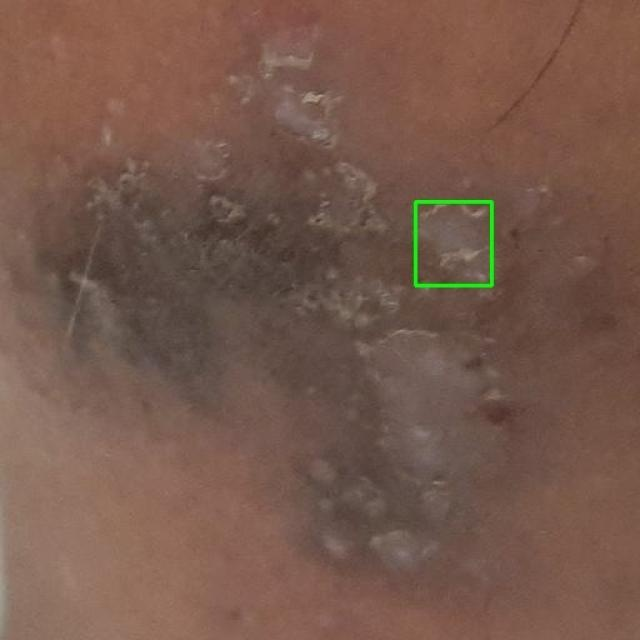Contact Dermatitis: (415, 201, 491, 285)
